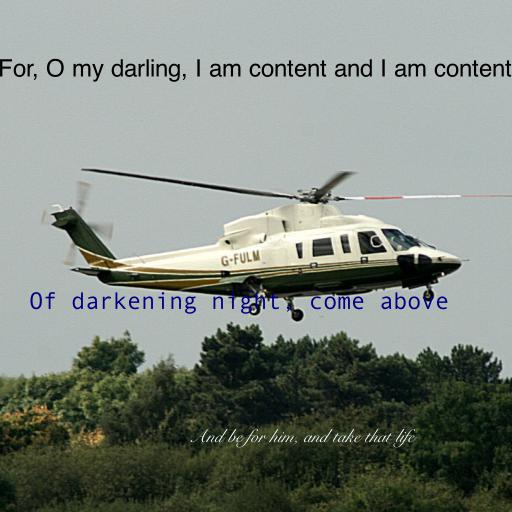Andale Mono: (29, 292, 449, 314)
SF Pro: (0, 58, 512, 82)
Snell Roundhand: (188, 428, 414, 448)
